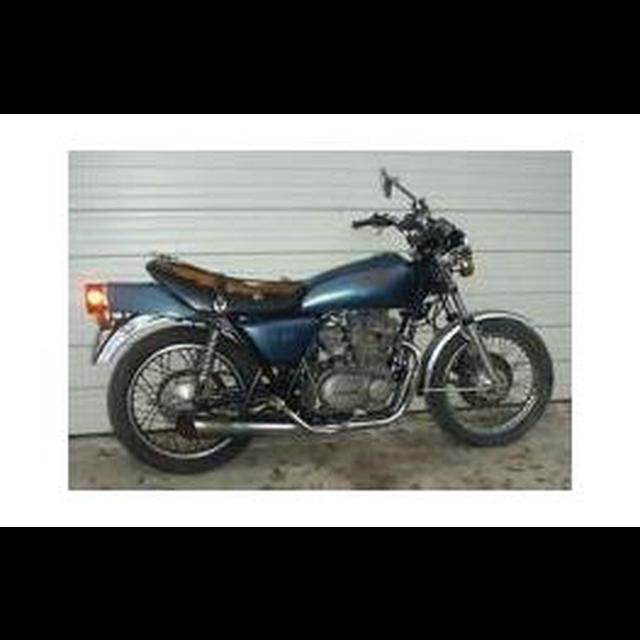motorcycle: (81, 153, 558, 481)
